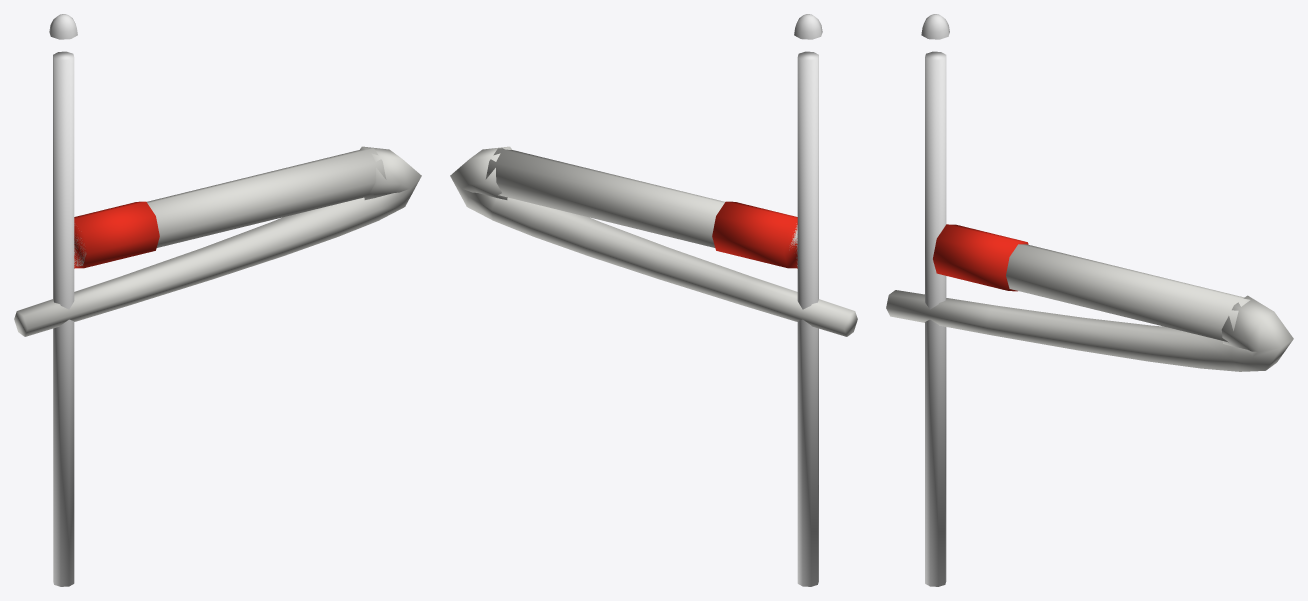
File: flags.fbx
3 renders of one model, left to right at view 1: azimuth 30°, elevation 25°; view 2: azimuth 150°, elevation 25°; view 3: azimuth 330°, elevation 25°, orthographic.
Visible parts, largest first — view 1: Flags; view 2: Flags; view 3: Flags.
Part boxes in pixels (left/top/right/bottom): Flags: left=14, top=14, right=421, bottom=586; Flags: left=450, top=14, right=857, bottom=586; Flags: left=886, top=14, right=1293, bottom=586.
Size of the model in its own units: 36.98 by 50.68 by 4.4.
